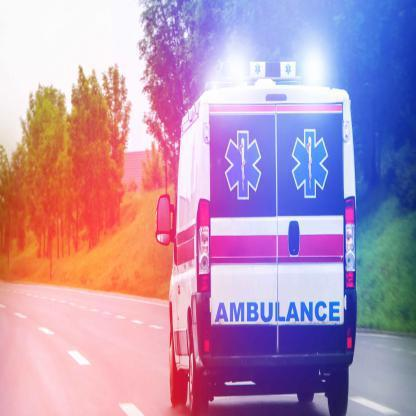Ambulance - v1 Ambulance last generate: (158, 55, 360, 414)
